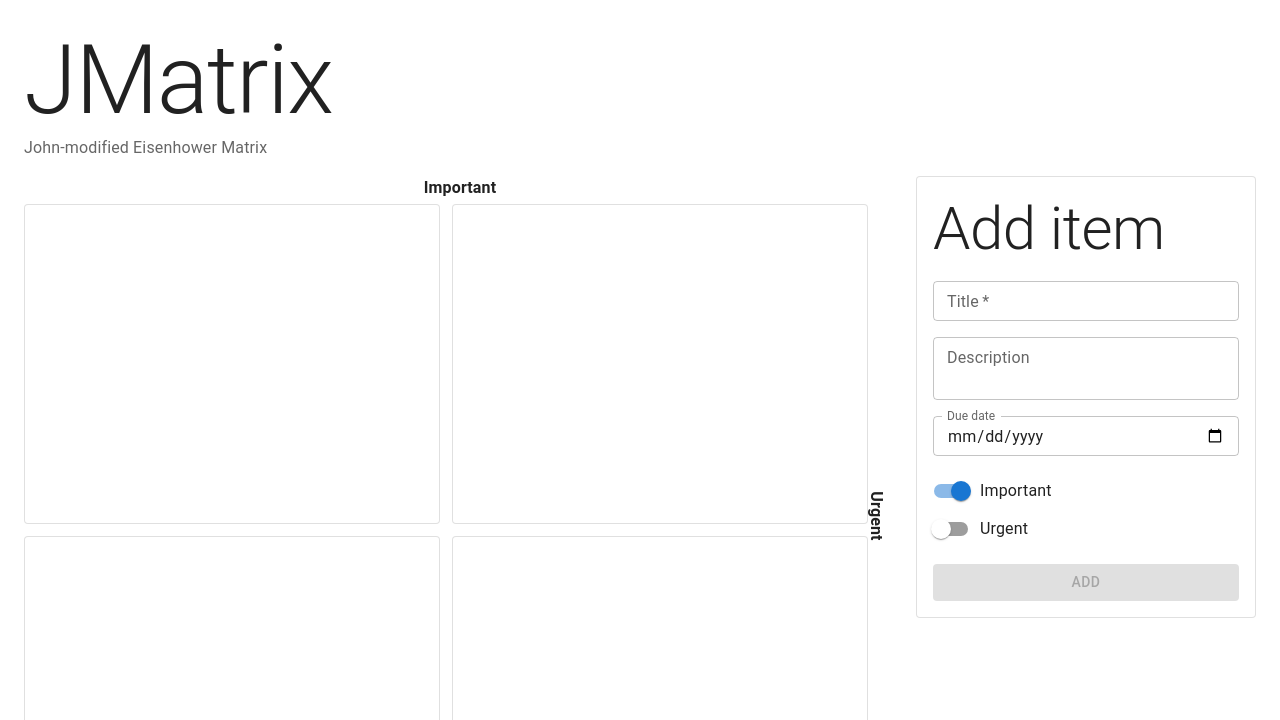
JMatrix MVP › shows cancel changes only while an item has a local draft
Type "Draft item" into the field labelled "Title" at (1086, 301), box [933, 281, 1239, 321]
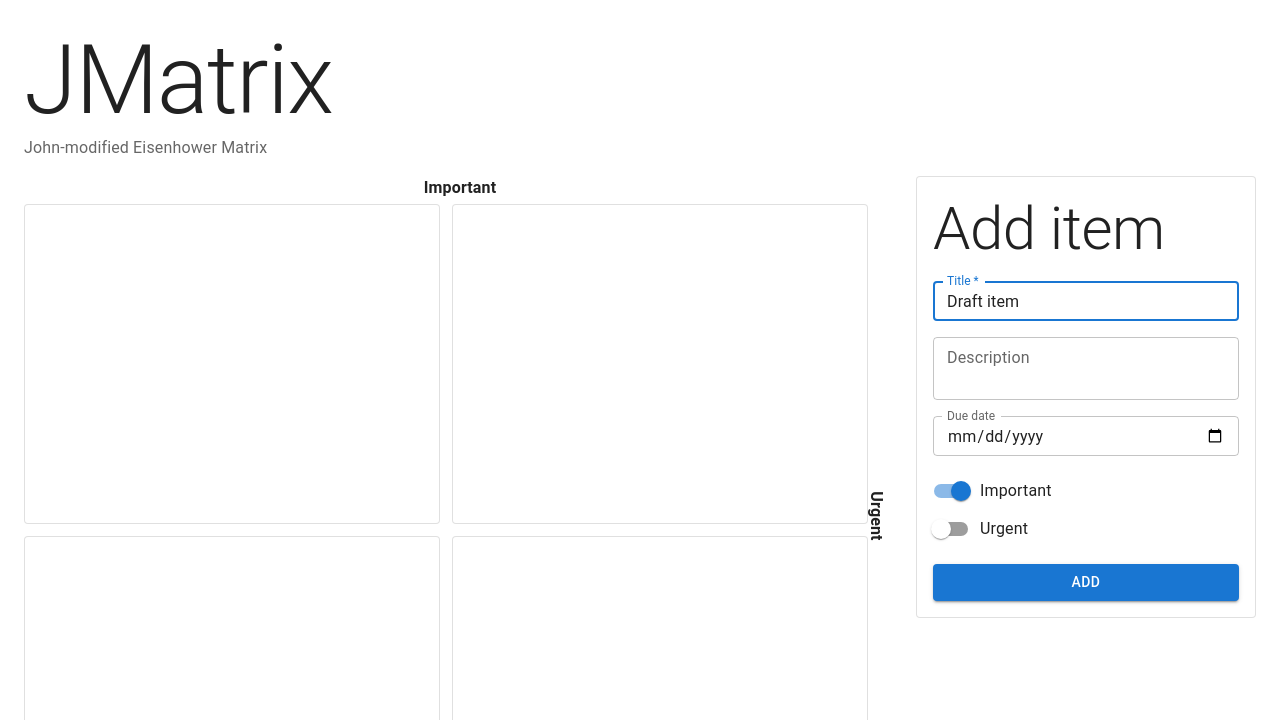
Click the button "Add" at (1086, 582), box [933, 564, 1239, 600]
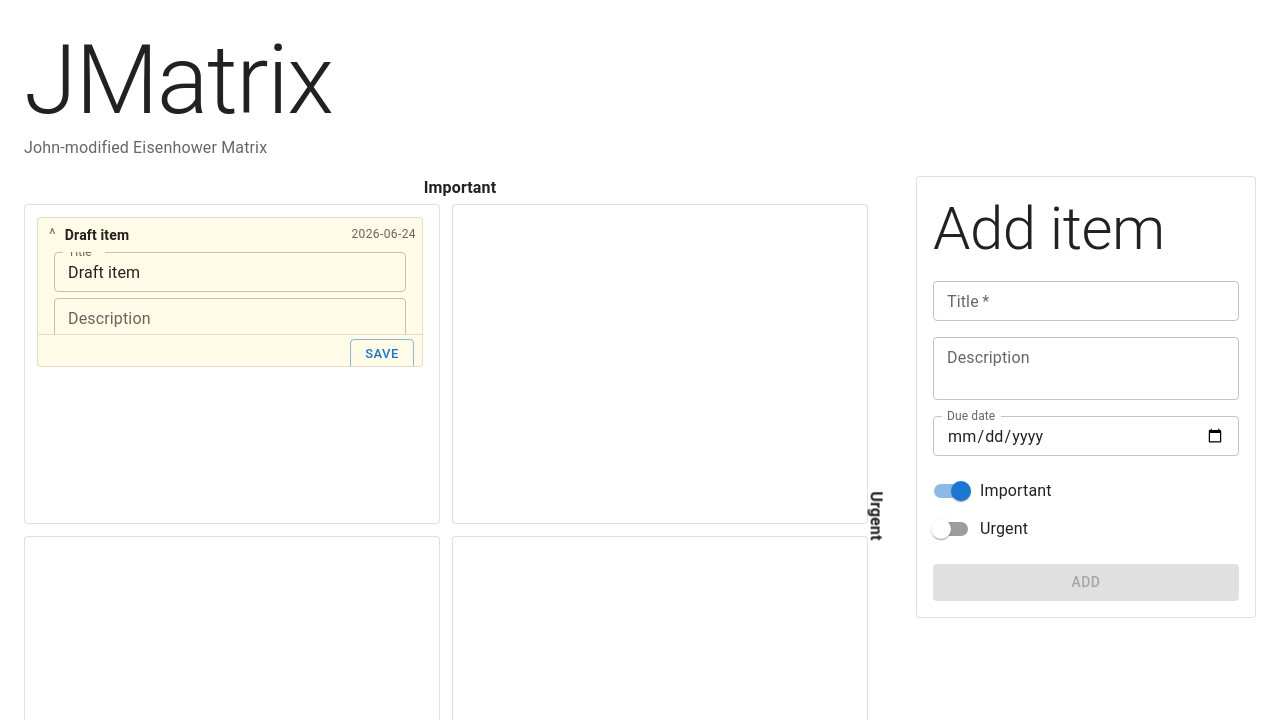
Replace the text in the 1st field showing "Draft item" with "Changed draft" at (230, 272), box [54, 252, 406, 292]
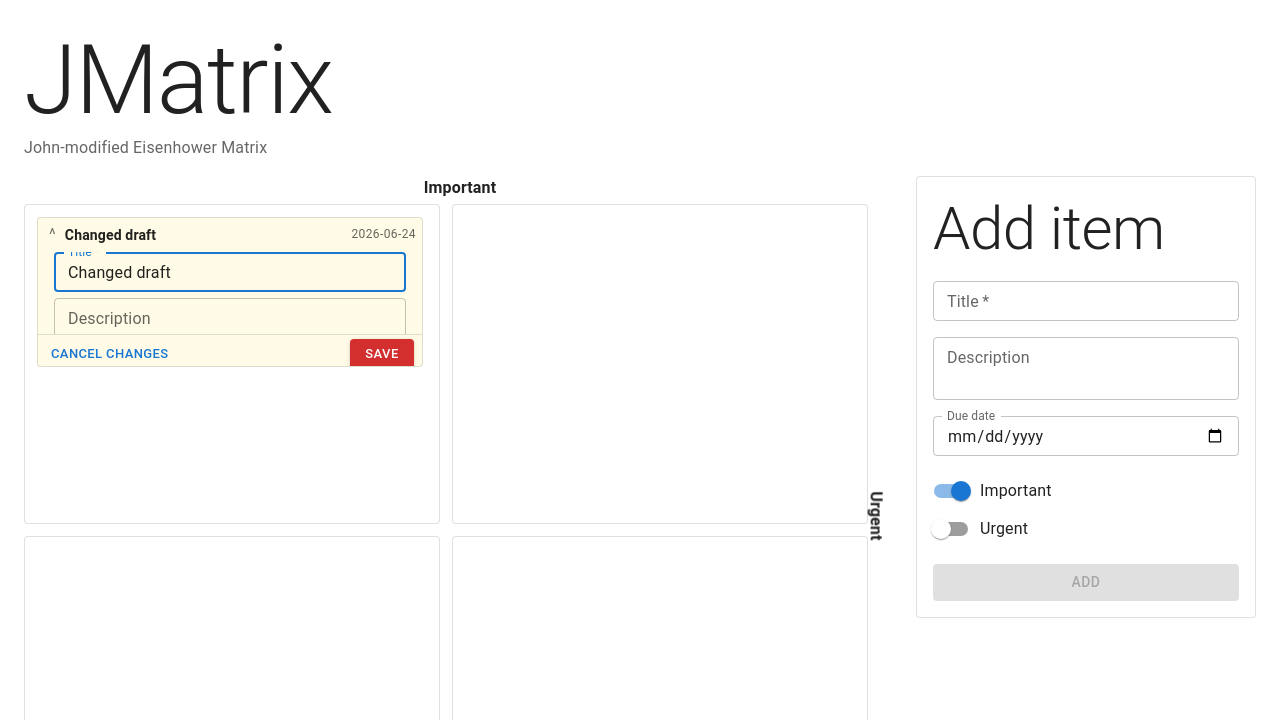
Expected: the button "Cancel changes" is shown
Click the button "Cancel changes" at (110, 354), box [46, 339, 174, 370]
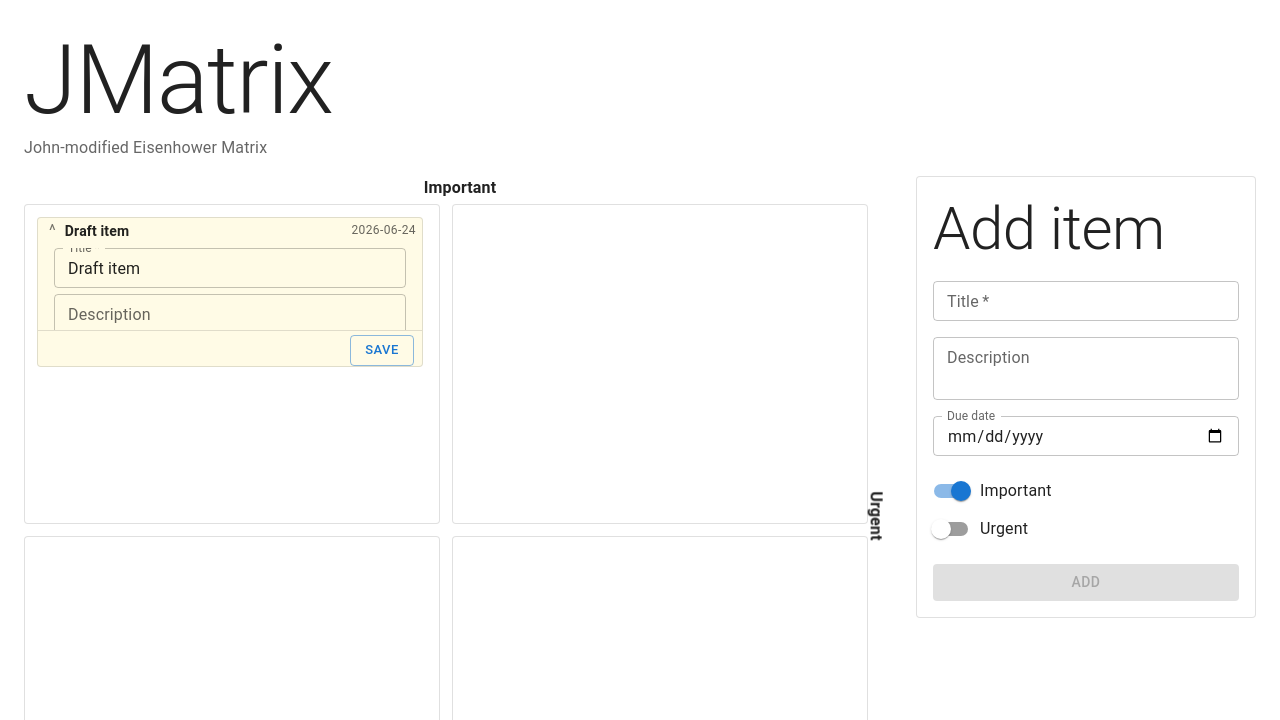
Expected: the 1st field showing "Draft item" is shown, [54, 248, 406, 288]
Expected: the button "Cancel changes" is gone
